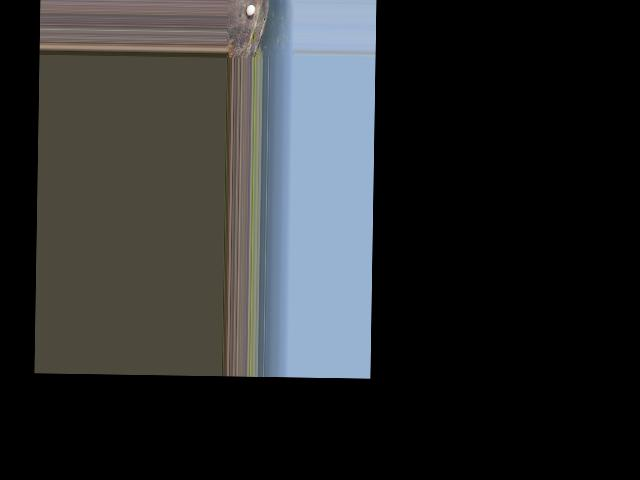egg: (246, 4, 255, 15)
